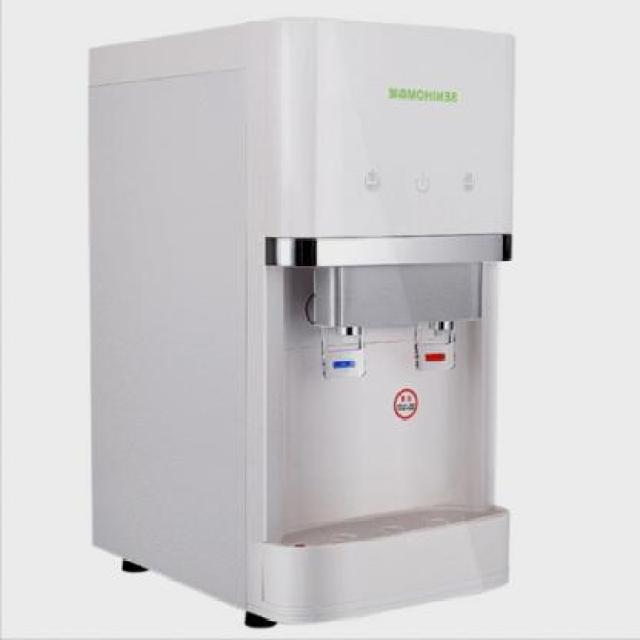cooler: (86, 15, 516, 631)
